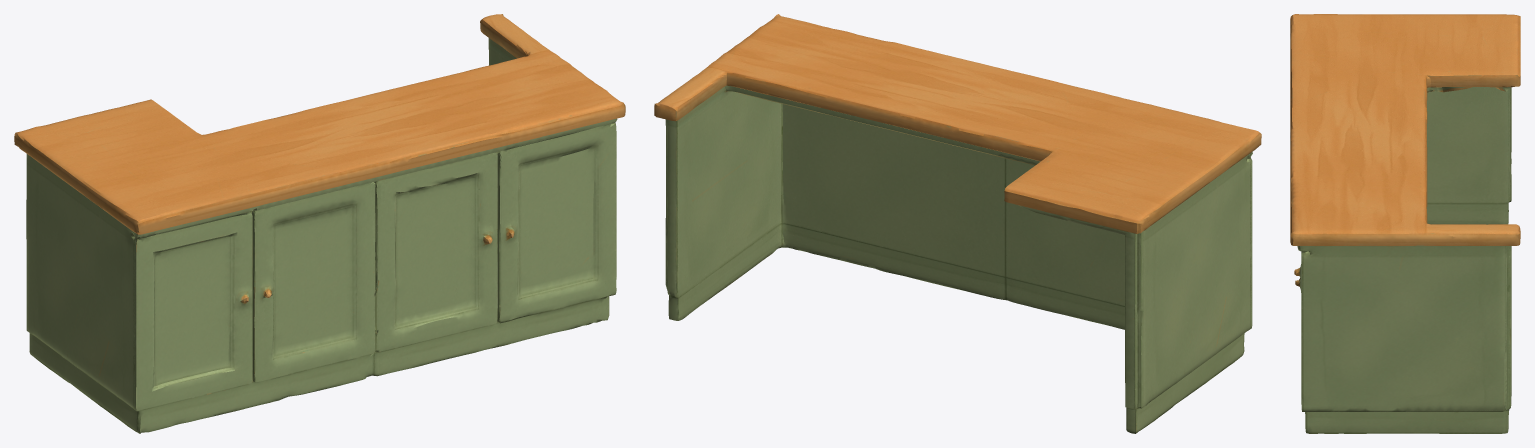
File: counter_corner_l.glb
3 views of the same model, side by side, from view 1: azimuth 30°, elevation 25°; view 2: azimuth 150°, elevation 25°; view 3: azimuth 270°, elevation 25° (orthographic). The views are drawn at different scales.
Visible parts, largest first — view 1: Mesh0; view 2: Mesh0; view 3: Mesh0.
Boxes of the visible parts, x1,y1,x2,y2 form: Mesh0: (14,14,625,433); Mesh0: (654,14,1261,433); Mesh0: (1290,14,1520,433).
Bounding box in the file's own units: 1.9 × 0.8248 × 0.8402.
Materials: 1 (1 with a texture image).
